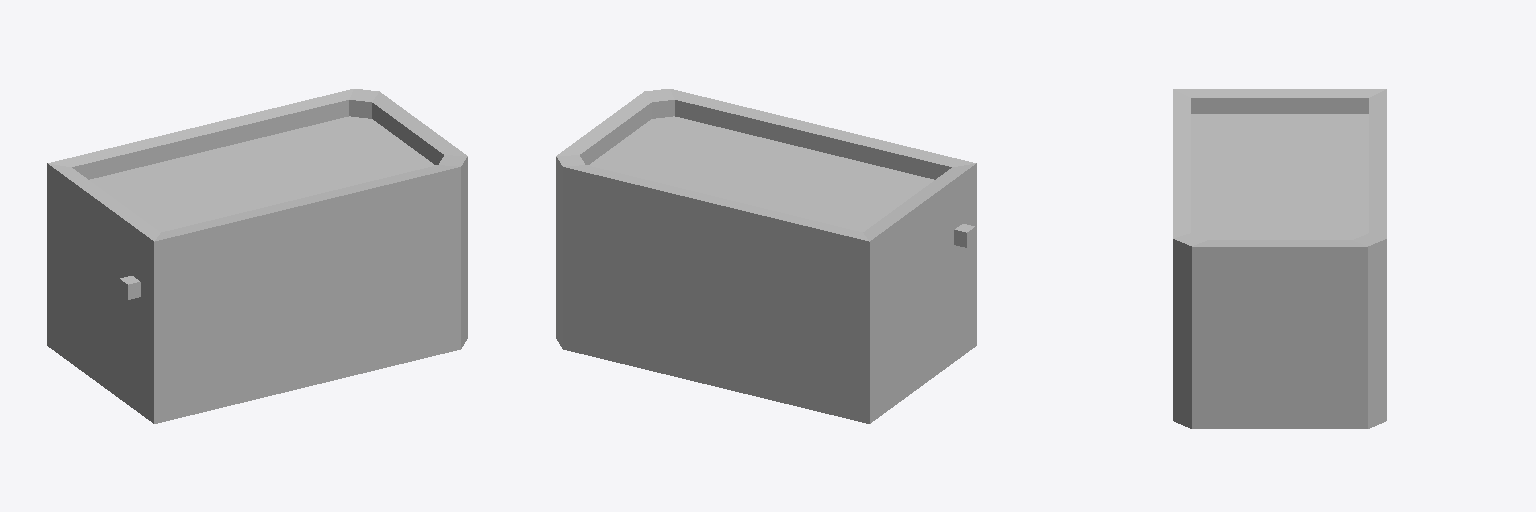
Rendered from BG_Building_03.obj.
3 views of the same model, side by side, from view 1: azimuth 30°, elevation 25°; view 2: azimuth 150°, elevation 25°; view 3: azimuth 270°, elevation 25° (orthographic).
Parts seen in each view (by area): view 1: Building_03; view 2: Building_03; view 3: Building_03.
Part boxes in pixels (bbox=[...]): Building_03: bbox=[47, 89, 467, 423]; Building_03: bbox=[556, 89, 976, 423]; Building_03: bbox=[1173, 89, 1386, 428].
Size of the model in its own units: 731 by 380 by 403.